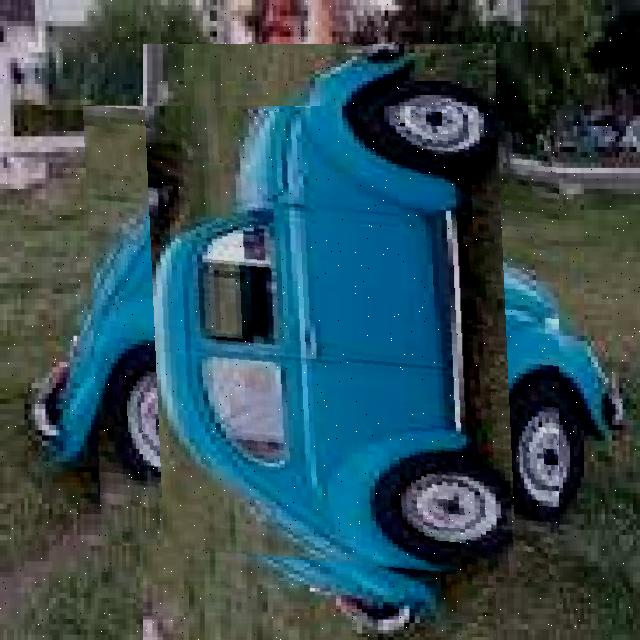car: (82, 107, 560, 585)
